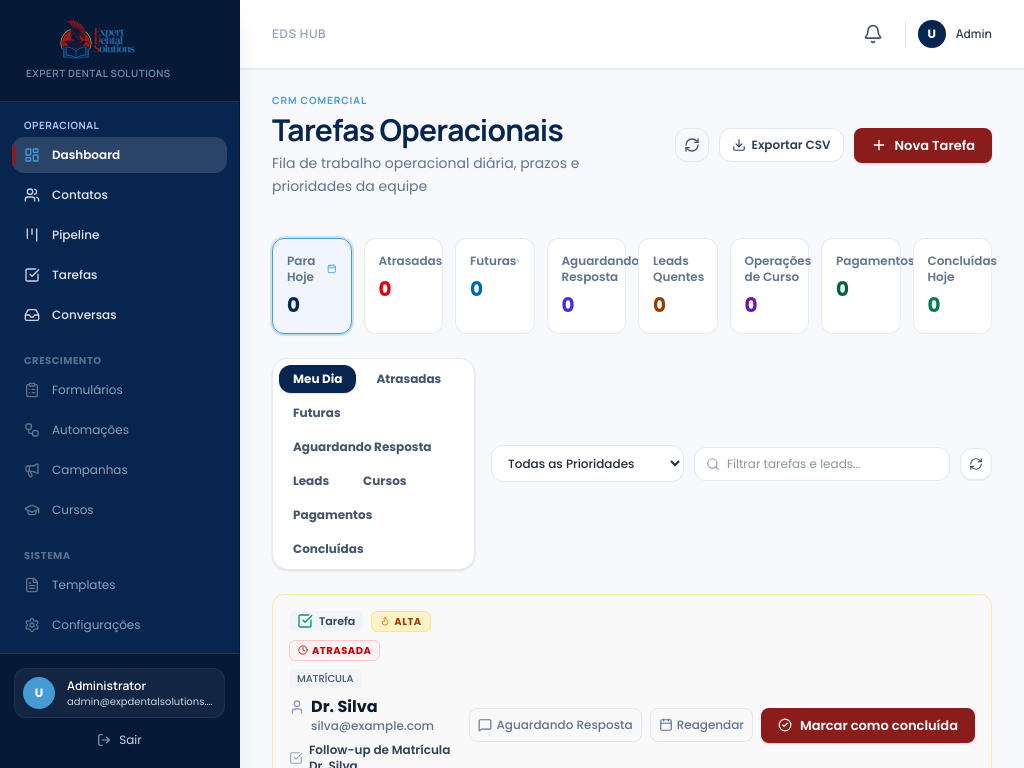
it: EDS HUB — Task Completion Button Canonical Suite › /work Dashboard Entry Point › renders WorkDashboardPage, allows completing task, shows feedback, and refreshes queue
Expected: the heading "Tarefas Operacionais" is shown, [272,109,563,150]
Note: Click complete task button
Click the button "Marcar como concluída": (868, 725) [761,708,975,743]
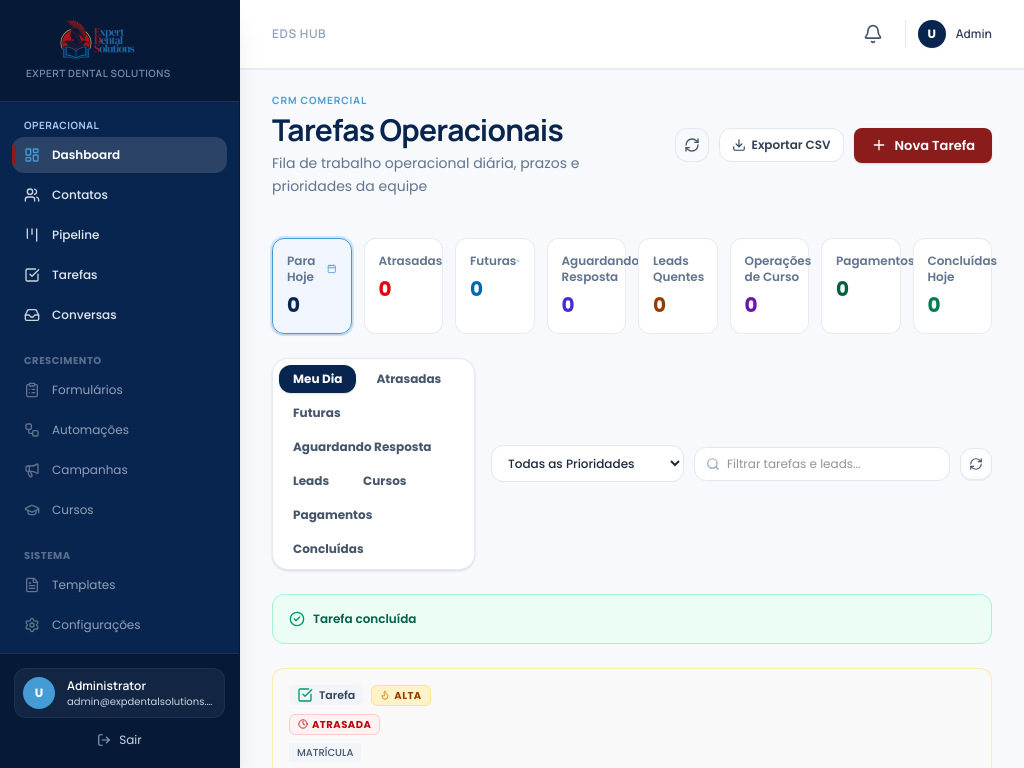
Expected: the text "Tarefa concluída" is shown, [313,610,416,626]
